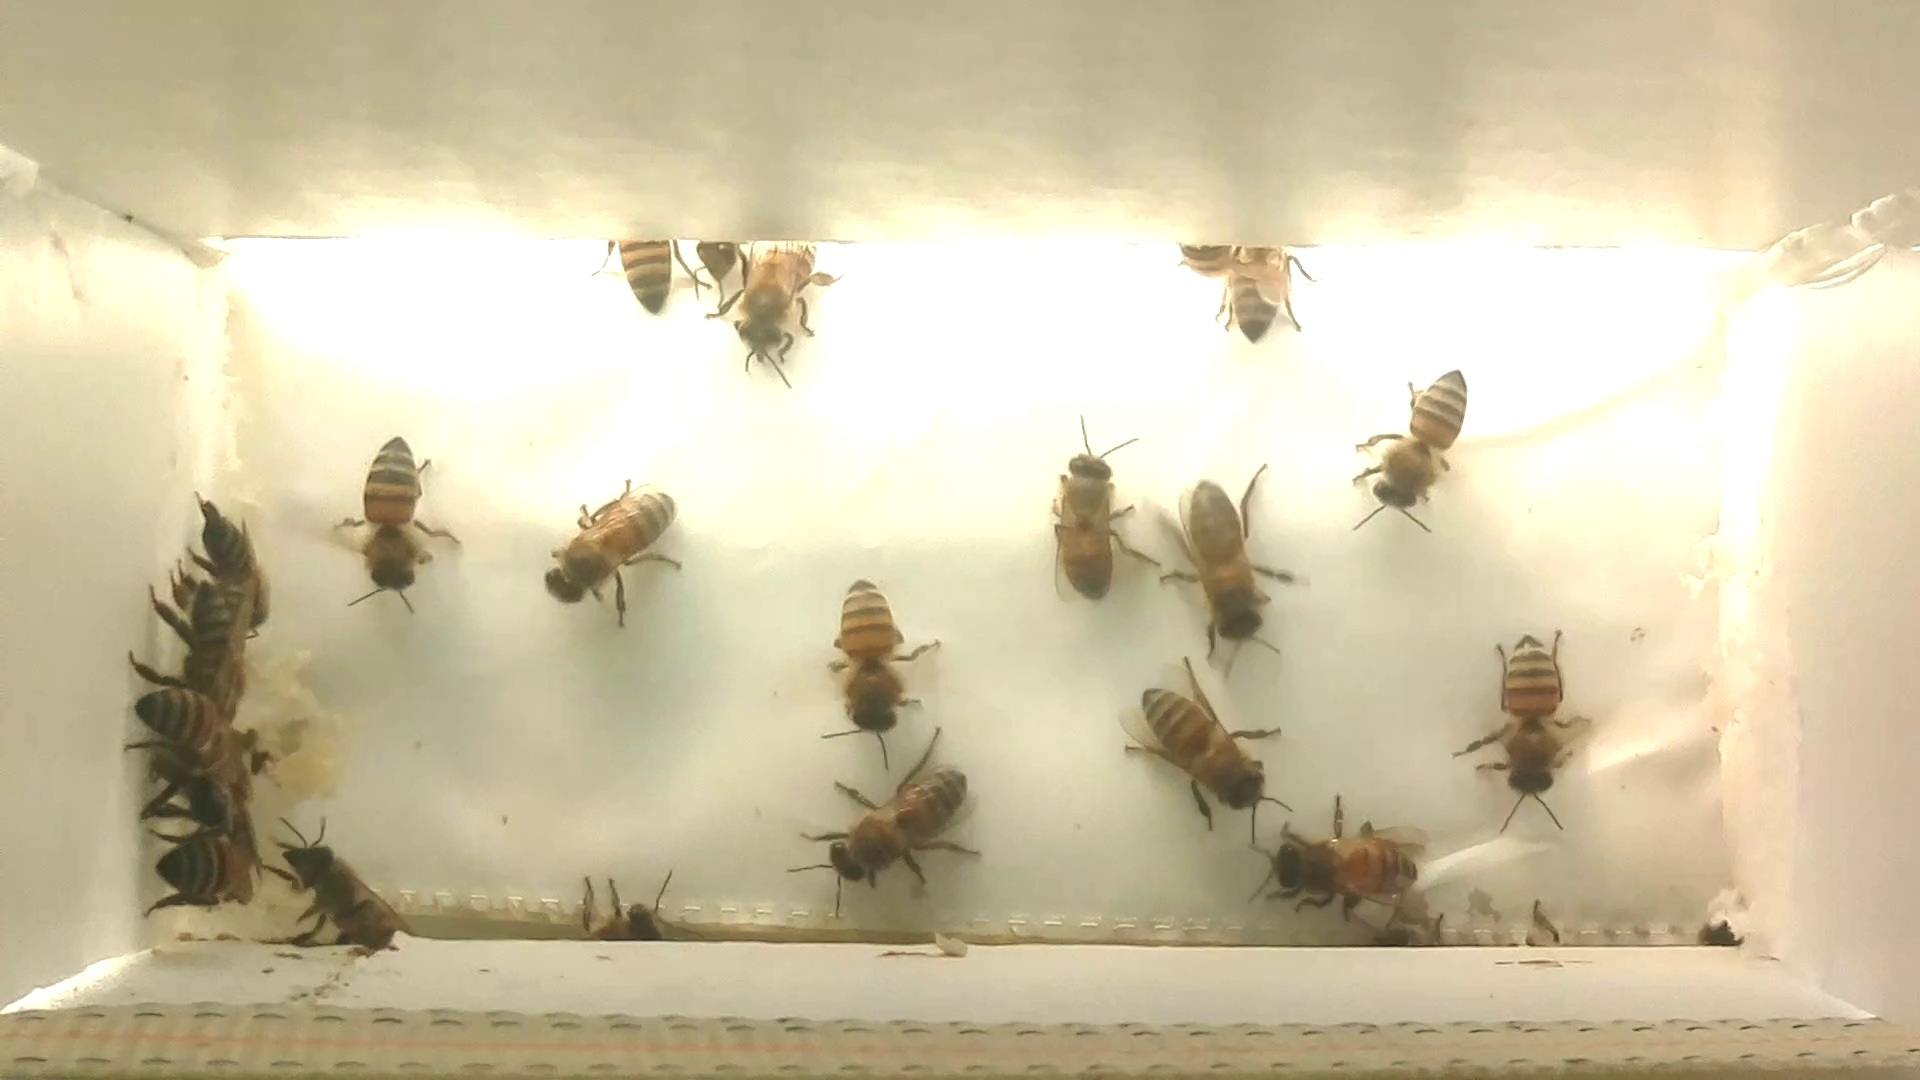bee: (789, 725, 1006, 924), (1105, 646, 1313, 845), (1133, 448, 1311, 679), (301, 409, 463, 633), (1445, 611, 1601, 844), (796, 568, 961, 771), (1338, 345, 1495, 549), (1236, 781, 1451, 928), (535, 462, 699, 641), (1034, 405, 1160, 620), (258, 811, 433, 957), (711, 219, 839, 393), (111, 659, 281, 785), (131, 576, 270, 720), (119, 819, 276, 923), (181, 491, 293, 636), (1215, 225, 1323, 367), (568, 214, 700, 328), (556, 864, 708, 963), (1160, 233, 1255, 303), (699, 233, 750, 295)
